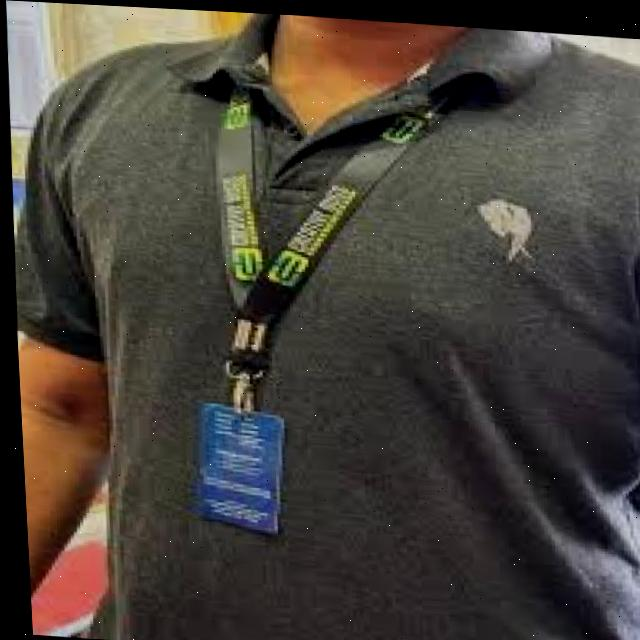id_card: (167, 46, 444, 560)
